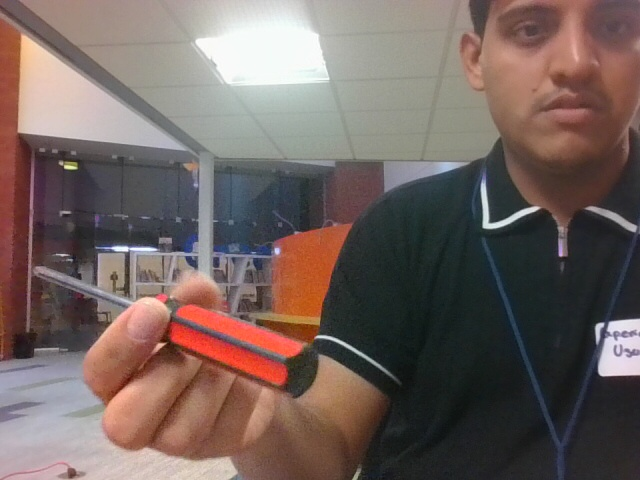destornillador: (35, 267, 319, 395)
